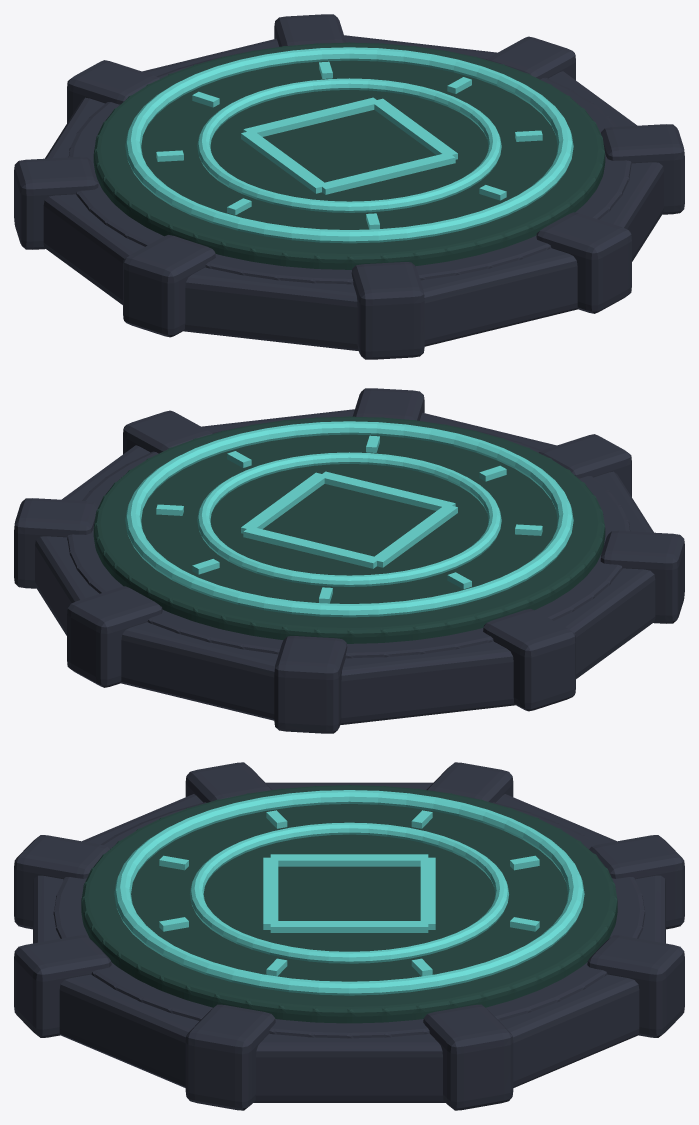
Rendered from MintPlate.glb.
3 views of the same model, one above another, from view 1: azimuth 30°, elevation 25°; view 2: azimuth 150°, elevation 25°; view 3: azimuth 270°, elevation 25° (orthographic). The views are drawn at different scales.
Parts seen in each view (by area): view 1: MintPlate.001; view 2: MintPlate.001; view 3: MintPlate.001.
Boxes of the visible parts, x1,y1,x2,y2 form: MintPlate.001: [14, 14, 684, 359]; MintPlate.001: [14, 388, 684, 733]; MintPlate.001: [14, 762, 684, 1110].
Bounding box in the file's own units: 0.7248 × 0.1016 × 0.7248.
